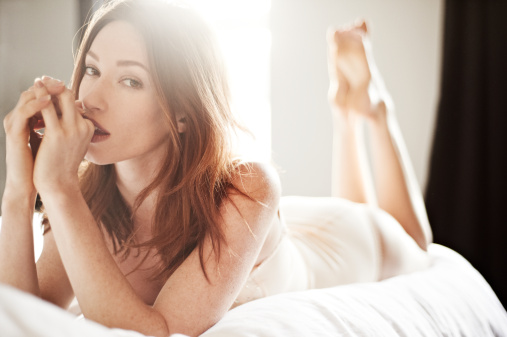deitado: (0, 0, 316, 337)
